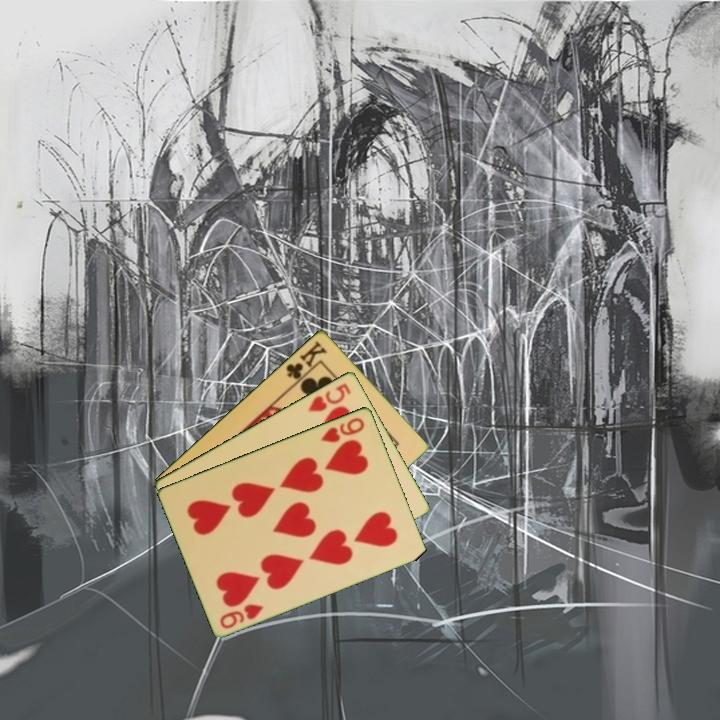5h: (305, 379, 354, 414)
9h: (216, 600, 267, 631), (318, 414, 367, 445)
Kc: (282, 337, 330, 387)
